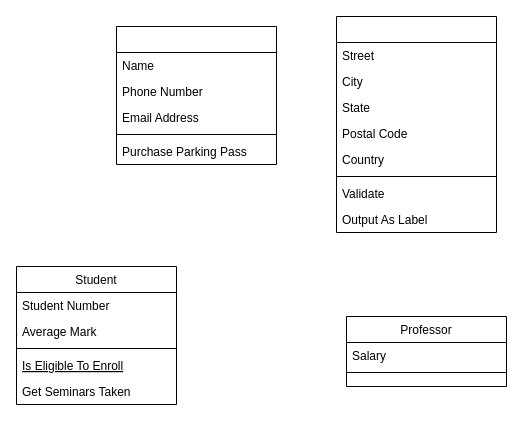
Image size: 523x421. Some labels were removed from this diagram. The box of each missing label's shape, as (x1, y1, x2, y2) in pixels:
Address: (336, 16, 496, 232)
User: (116, 26, 276, 164)
